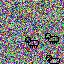sheep: (25, 36, 39, 49), (45, 32, 60, 44), (46, 54, 60, 64)
